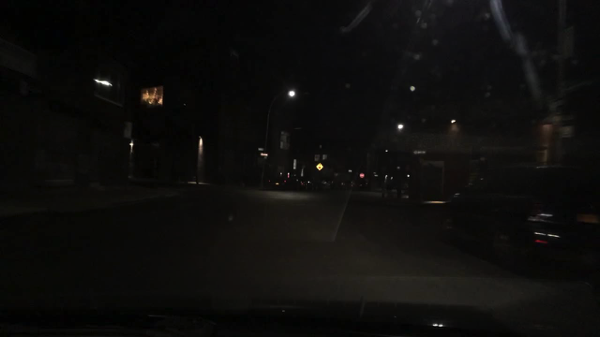car: (441, 161, 599, 277), (267, 173, 296, 192), (311, 177, 329, 192), (336, 176, 354, 189), (298, 176, 313, 191), (326, 176, 338, 189), (352, 180, 367, 189)
traffic sign: (549, 112, 576, 123), (547, 97, 563, 114), (124, 122, 133, 140), (411, 149, 425, 155), (316, 162, 323, 171), (260, 152, 268, 156), (358, 172, 363, 178), (258, 147, 264, 151)
